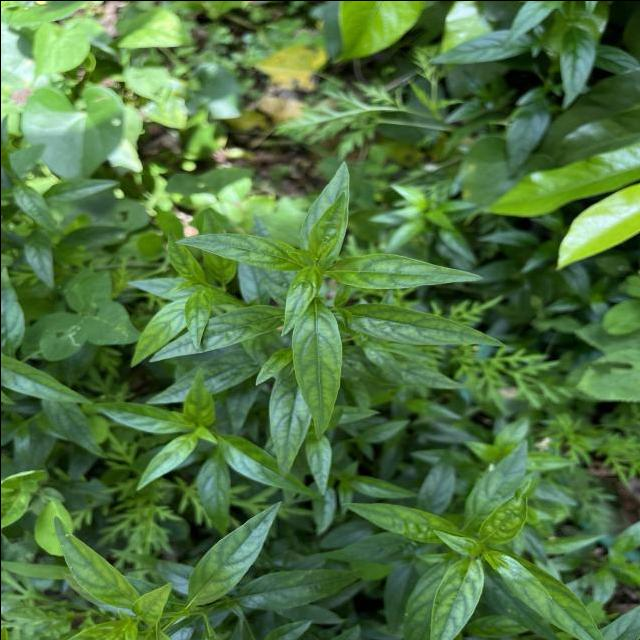Andrographis paniculata: (184, 498, 284, 608), (492, 547, 606, 640), (51, 514, 139, 610), (147, 302, 286, 362), (288, 296, 344, 440), (339, 301, 507, 348), (217, 431, 325, 498), (327, 251, 484, 289), (338, 498, 462, 544), (298, 158, 350, 260), (172, 231, 298, 271), (428, 555, 486, 640), (128, 296, 186, 368), (134, 430, 198, 490), (92, 399, 190, 434), (280, 262, 324, 338), (166, 229, 207, 285), (182, 365, 216, 428), (182, 286, 213, 348)
